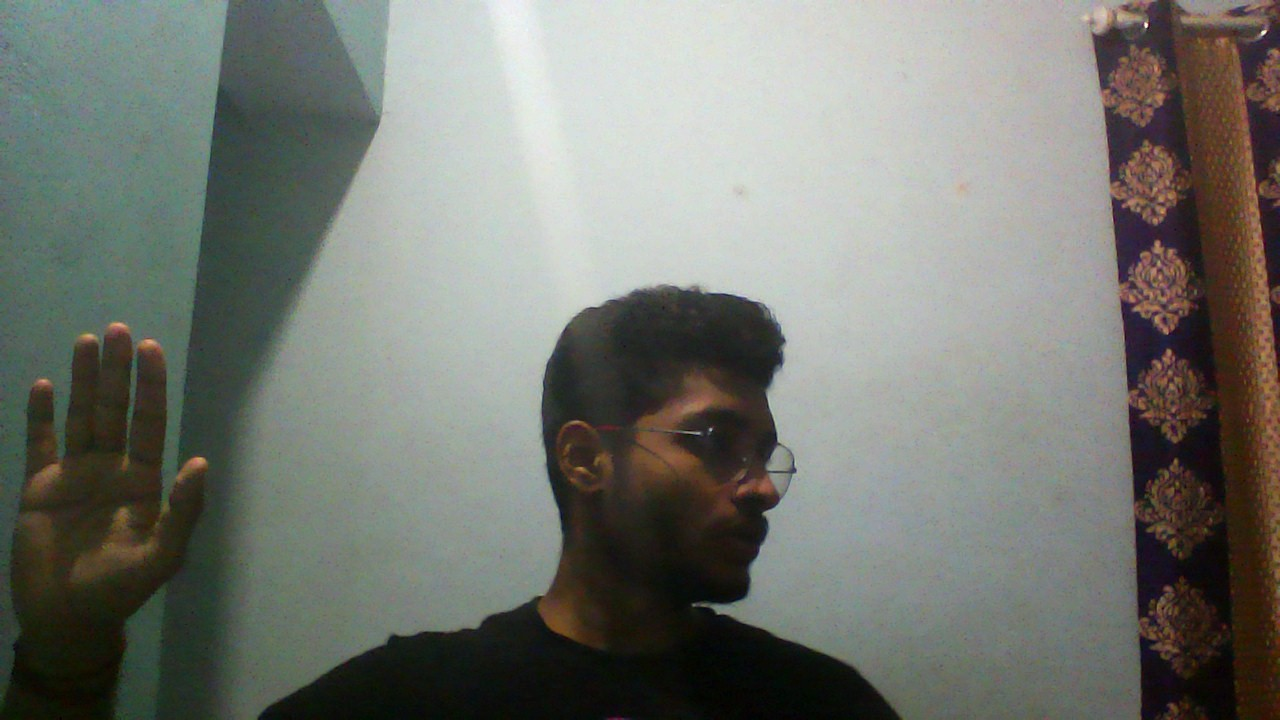Hello: (10, 269, 220, 640)
